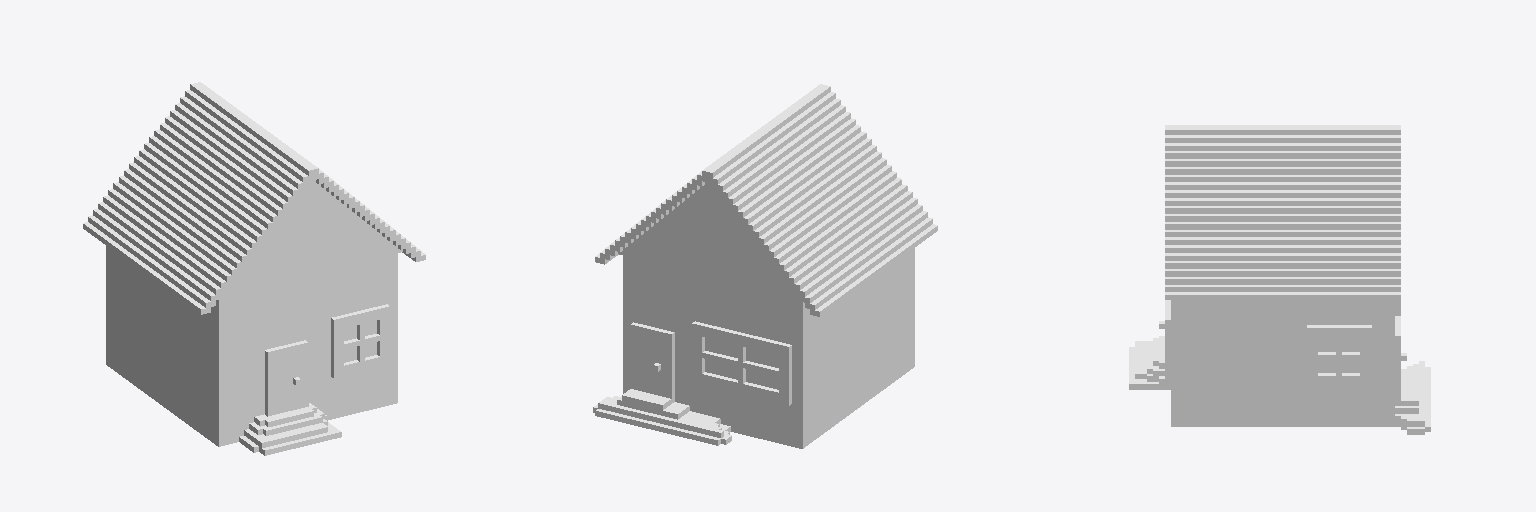
The model's file is Farmhouse-1.obj.
The picture shows the model from 3 angles: view 1: azimuth 30°, elevation 25°; view 2: azimuth 150°, elevation 25°; view 3: azimuth 270°, elevation 25°; orthographic projection.
Visible parts, largest first — view 1: object 1; view 2: object 1; view 3: object 1.
Boxes of the visible parts, x1=… form: object 1: x1=83, y1=82, x2=425, y2=455; object 1: x1=593, y1=84, x2=937, y2=448; object 1: x1=1129, y1=125, x2=1430, y2=434.
Size of the model in its own units: 4.4 by 4.8 by 5.1.